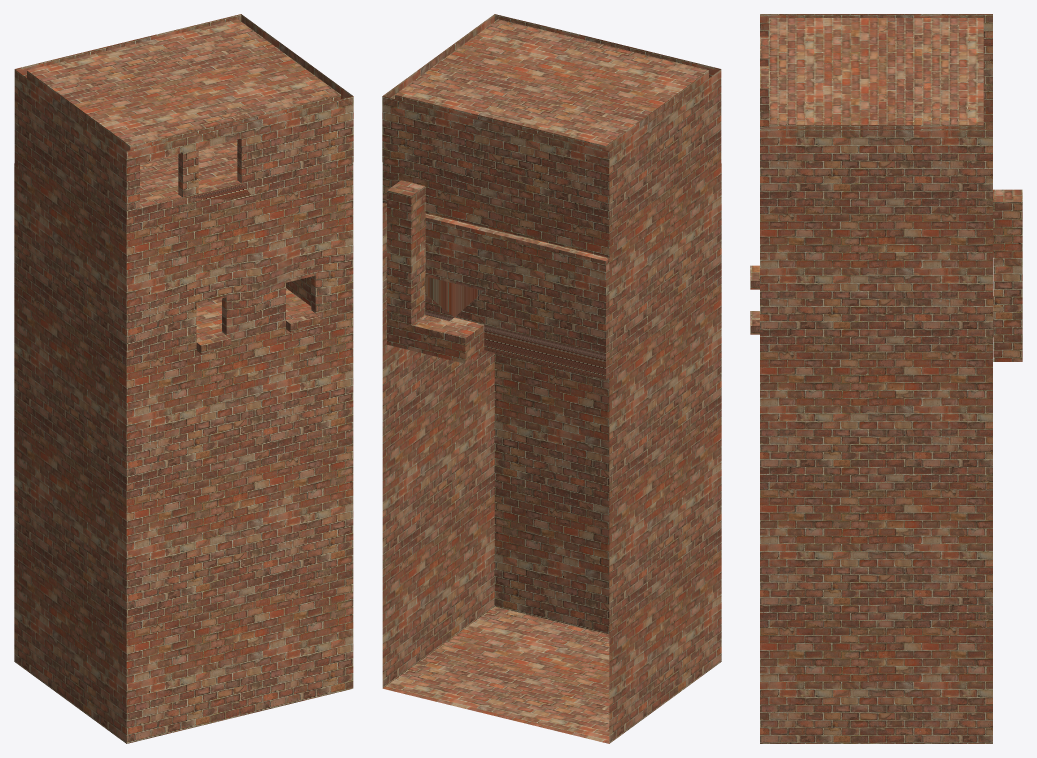
The model's file is TestBuilding.FBX.
3 renders of one model, left to right at view 1: azimuth 30°, elevation 25°; view 2: azimuth 150°, elevation 25°; view 3: azimuth 270°, elevation 25°, orthographic. The views are drawn at different scales.
Parts seen in each view (by area): view 1: BuildingTest; view 2: BuildingTest; view 3: BuildingTest.
Part boxes in pixels (<box>): BuildingTest: <box>14,14,353,743</box>; BuildingTest: <box>382,14,721,743</box>; BuildingTest: <box>750,14,1022,743</box>.
Size of the model in its own units: 140 by 350 by 140.
Materials: 1 (1 with a texture image).
